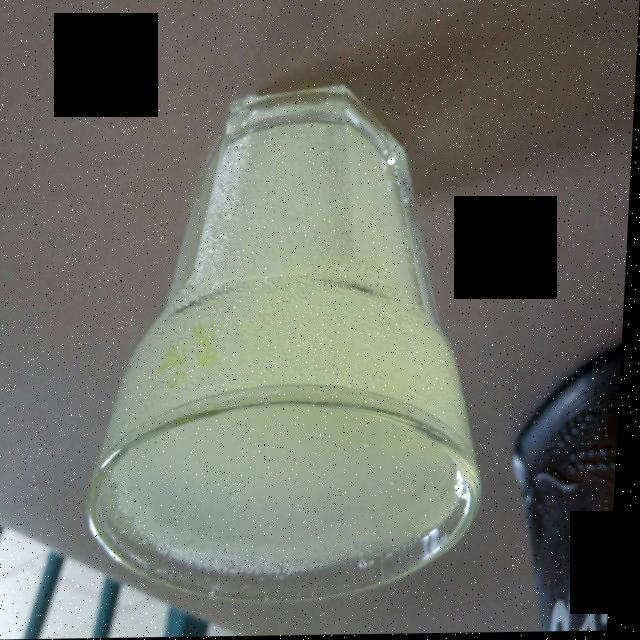drink: (112, 107, 477, 581)
